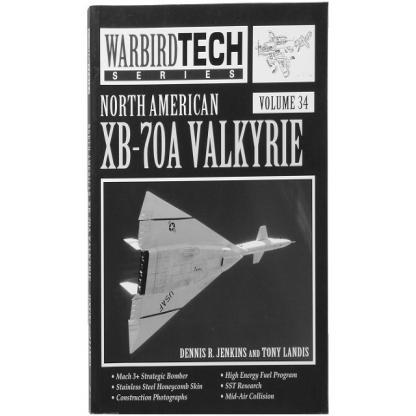XB70: (119, 192, 297, 356)
